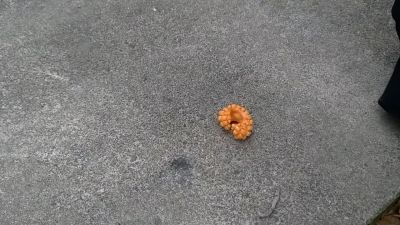eggs: (217, 103, 257, 142)
